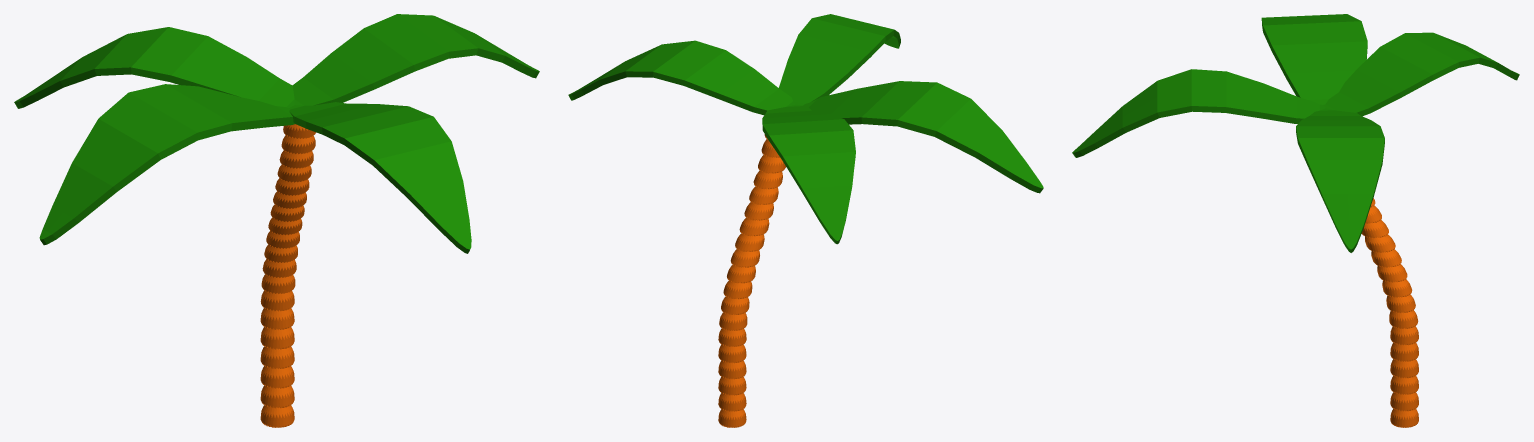
Rendered from palme2.fbx.
3 views of the same model, side by side, from view 1: azimuth 30°, elevation 25°; view 2: azimuth 150°, elevation 25°; view 3: azimuth 270°, elevation 25° (orthographic). The views are drawn at different scales.
Visible parts, largest first — view 1: Plane.009, Cone; view 2: Plane.009, Cone; view 3: Plane.009, Cone.
Boxes of the visible parts, x1,y1,x2,y2 form: Plane.009: (14, 14, 539, 253); Cone: (260, 124, 315, 427); Plane.009: (568, 14, 1043, 244); Cone: (718, 134, 785, 427); Plane.009: (1072, 14, 1519, 252); Cone: (1361, 198, 1418, 427).
Bounding box in the file's own units: 341 × 240 × 291.
